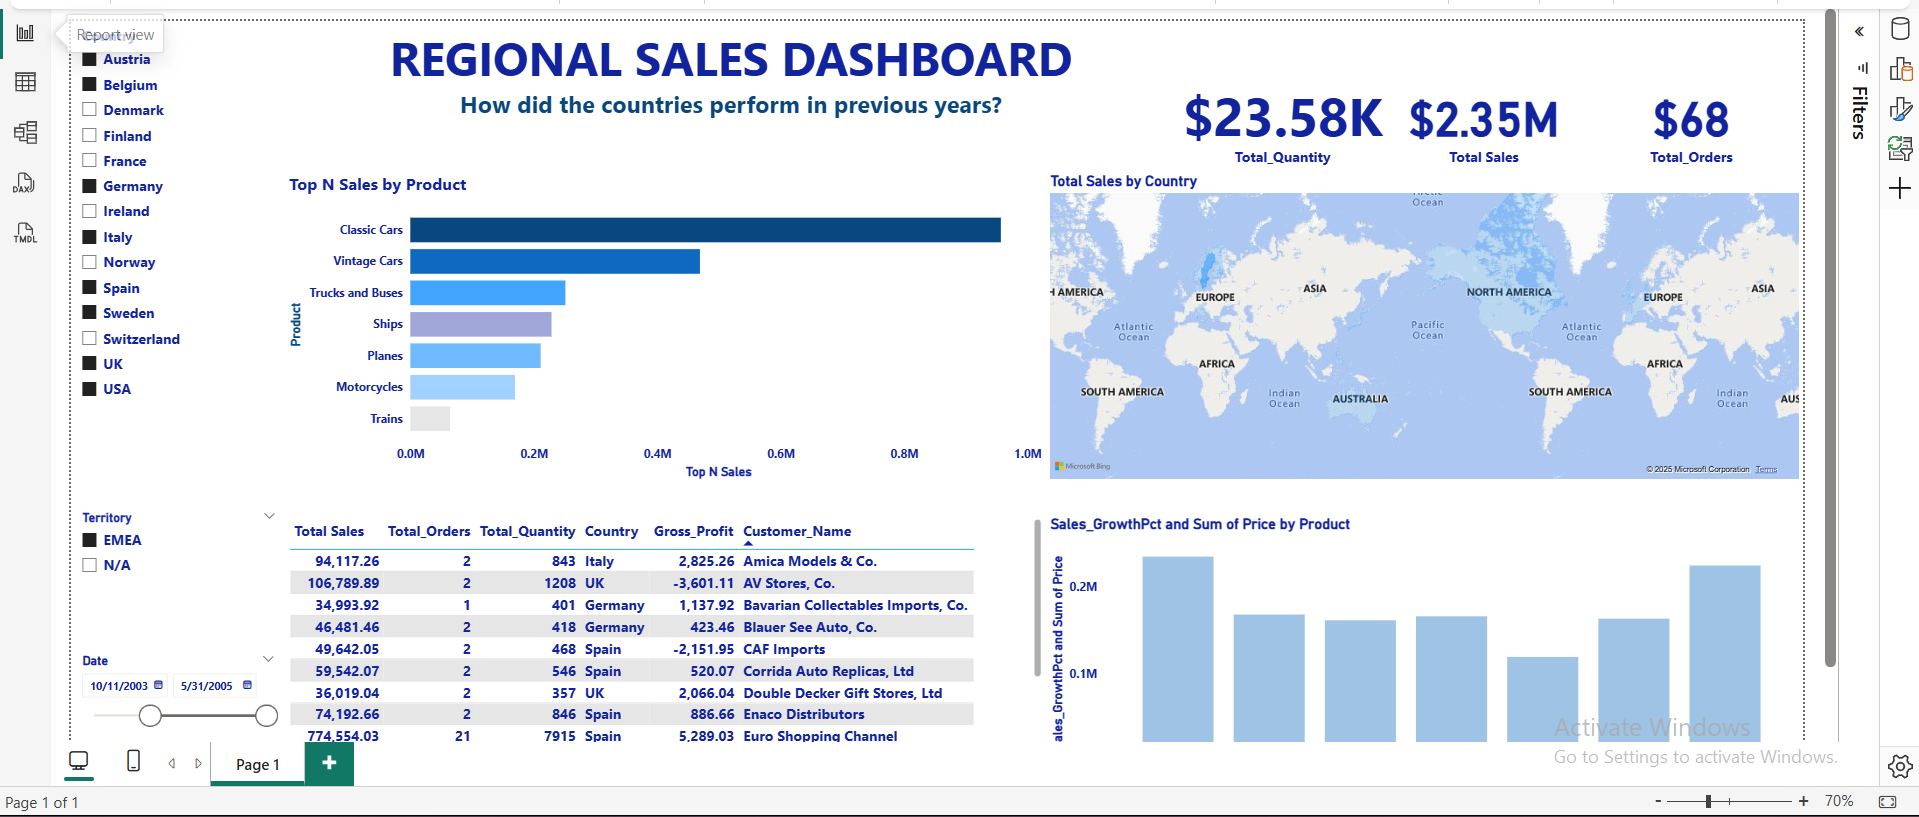

The page's visual inventory and layout, read from the dashboard file:
{"tool":"powerbi","page":{"name":"Page 1","canvas":[1980,920],"ordinal":0},"visuals":[{"type":"barChart","fields":{"Category":["Sales-Data.Product"],"Y":["Sales-Data.Top N Sales"]},"box":[244.3,172.9,870,355.7],"z":1000},{"type":"filledMap","fields":{"Category":["Dim_SalesTerritory.Country"],"Y":["Sales-Data.Total Sales"]},"box":[1114.3,172.9,865.7,355.7],"z":2000},{"type":"columnChart","fields":{"Category":["Dim_Product.Product"],"Y":["Sales-Data.Sales_GrowthPct","Sum(Fact_Sales.Price)"]},"box":[1114.3,564.3,865.7,355.7],"z":3000},{"type":"card","fields":{"Values":["Sales-Data.Total Sales"]},"box":[1505.7,60,218.6,112.9],"z":4000},{"type":"card","fields":{"Values":["Sales-Data.Total_Quantity"]},"box":[1264.3,60,241.4,112.9],"z":5000},{"type":"card","fields":{"Values":["Sales-Data.Total_Orders"]},"box":[1724.3,60,255.7,112.9],"z":6000},{"type":"slicer","fields":{"Values":["Sales-Data.Date"]},"box":[0,717.1,244.3,154.3],"z":7000},{"type":"slicer","fields":{"Values":["Sales-Data.Country"]},"box":[0,0,244.3,528.6],"z":8000},{"type":"textbox","box":[244.3,0,1020,160],"z":9000},{"type":"tableEx","fields":{"Values":["Sales-Data.Total Sales","Sales-Data.Total_Orders","Sales-Data.Total_Quantity","Sales-Data.Country","Sales-Data.Gross_Profit","Sales-Data.Customer_Name"]},"box":[244.3,564.3,870,355.7],"z":10000},{"type":"slicer","fields":{"Values":["Sales-Data.Territory"]},"box":[0,554.3,245.7,141.4],"z":11000}]}

Visuals, with their boxes on the page's 1980x920 design canvas (x1, y1, x2, y2). These are canvas units, not pixel positions in the 1919x817 screenshot, which may show the page scaled, cropped or inside an application window:
barChart - Sales-Data.Product x Sales-Data.Top N Sales: box=[244, 173, 1114, 529]
filledMap - Dim_SalesTerritory.Country x Sales-Data.Total Sales: box=[1114, 173, 1980, 529]
columnChart - Dim_Product.Product x Sales-Data.Sales_GrowthPct: box=[1114, 564, 1980, 920]
card - Sales-Data.Total Sales: box=[1506, 60, 1724, 173]
card - Sales-Data.Total_Quantity: box=[1264, 60, 1506, 173]
card - Sales-Data.Total_Orders: box=[1724, 60, 1980, 173]
slicer - Sales-Data.Date: box=[0, 717, 244, 871]
slicer - Sales-Data.Country: box=[0, 0, 244, 529]
textbox: box=[244, 0, 1264, 160]
tableEx - Sales-Data.Total Sales x Sales-Data.Total_Orders: box=[244, 564, 1114, 920]
slicer - Sales-Data.Territory: box=[0, 554, 246, 696]
